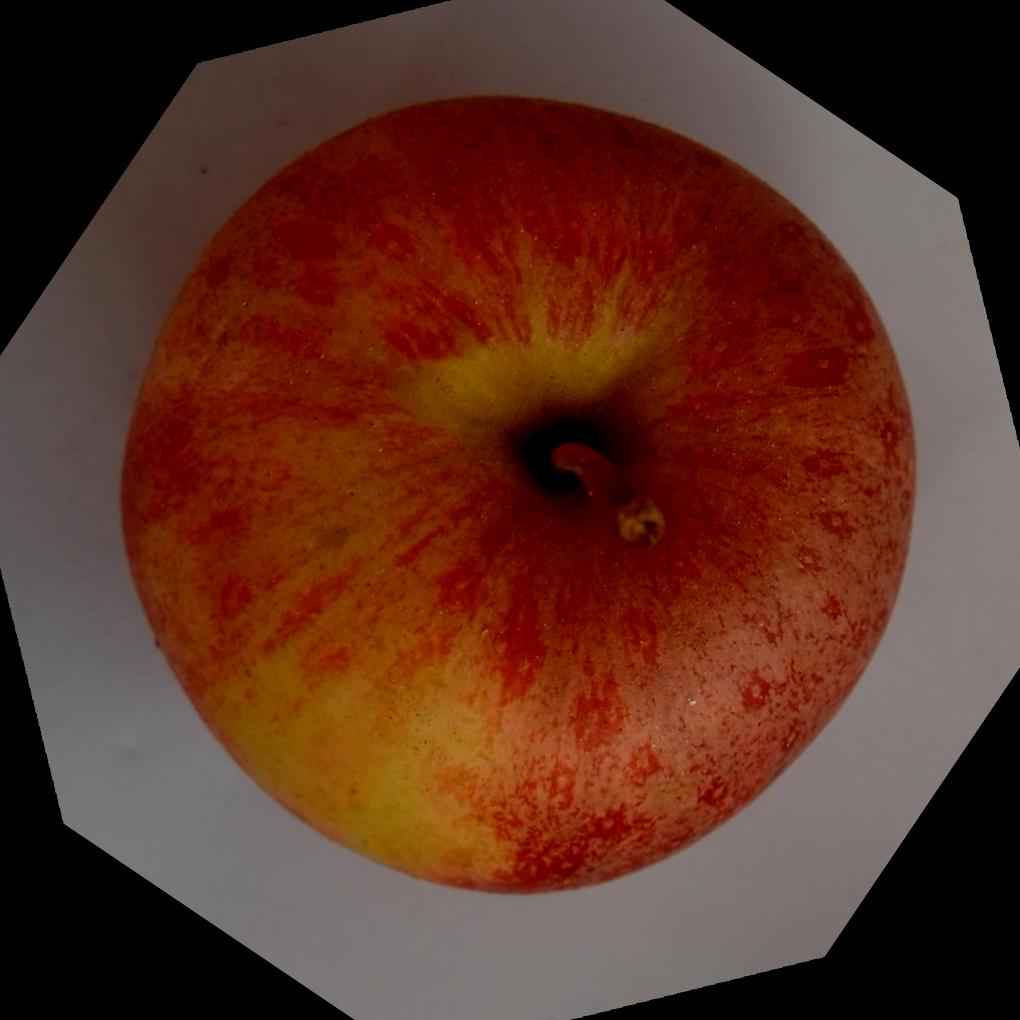FreshGuava: (118, 94, 922, 900)
